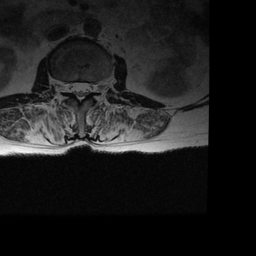CCS_normal: (76, 74, 84, 108)
LFS_normal: (92, 73, 99, 100)
LLS_normal: (84, 73, 93, 101)
RFS_normal: (62, 73, 69, 99)
RLS_normal: (69, 74, 76, 101)
